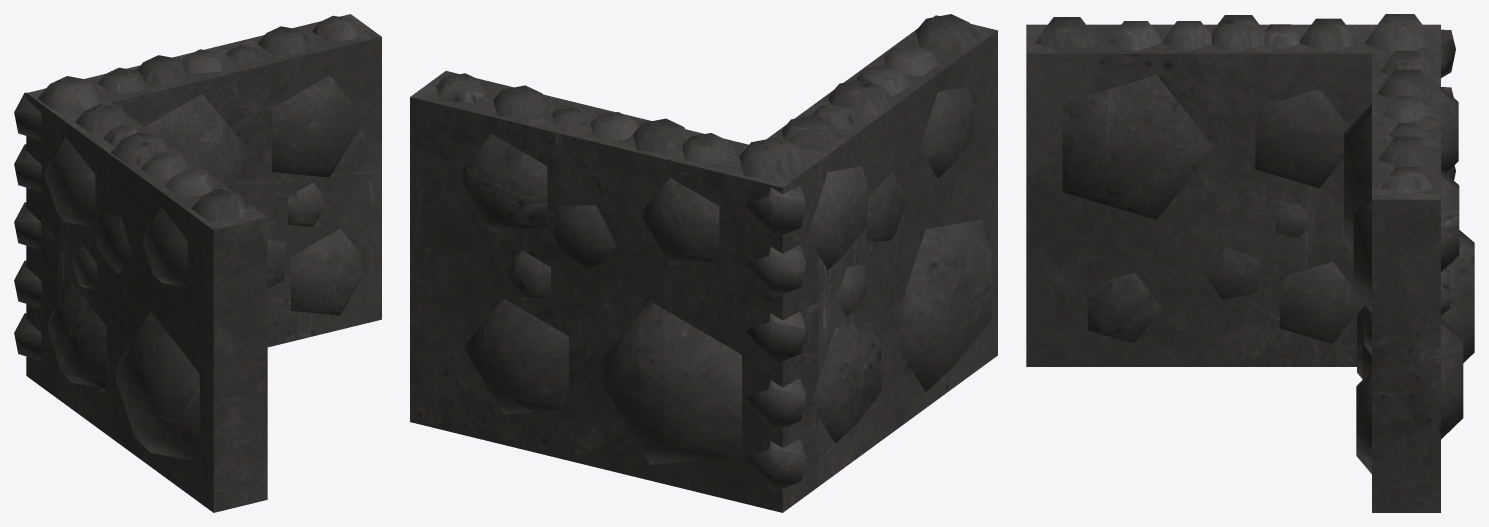
The model's file is mod_ogga_corner.fbx.
3 renders of one model, left to right at view 1: azimuth 30°, elevation 25°; view 2: azimuth 150°, elevation 25°; view 3: azimuth 270°, elevation 25°, orthographic. The views are drawn at different scales.
Visible parts, largest first — view 1: wallcorner; view 2: wallcorner; view 3: wallcorner.
Part boxes in pixels (x1,y1,x2,y2): wallcorner: (14, 14, 381, 512); wallcorner: (410, 14, 997, 512); wallcorner: (1026, 14, 1474, 512).
Bounding box in the file's own units: 12.78 × 10.53 × 12.98.
